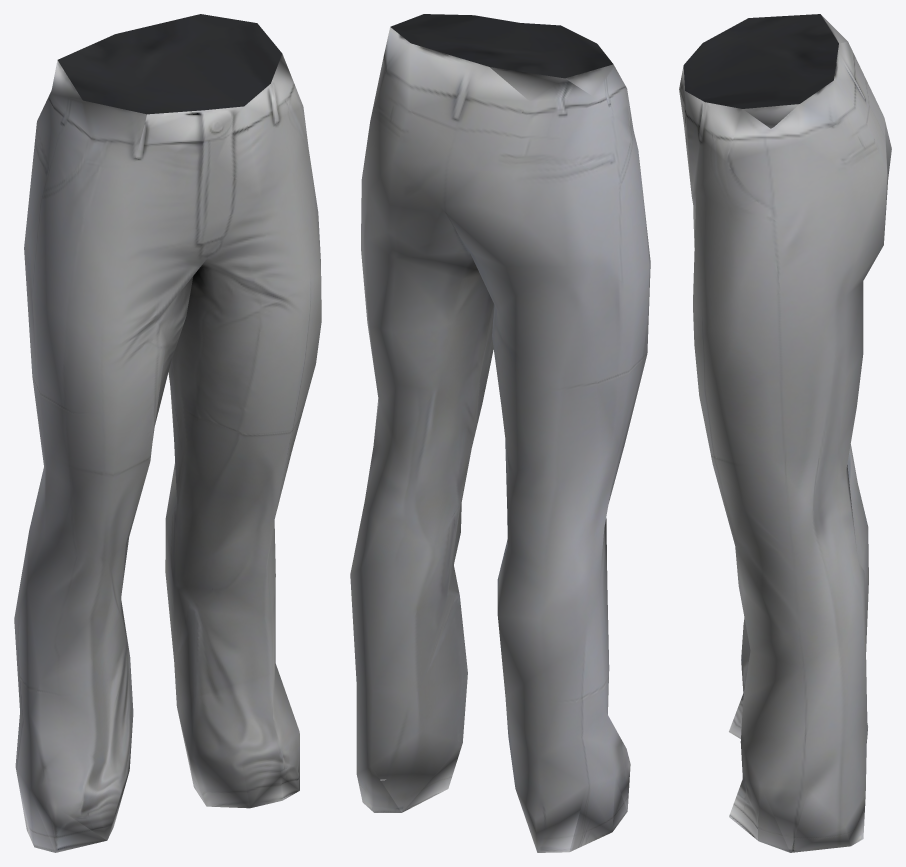
The model's file is Broek.glb.
The picture shows the model from 3 angles, left to right: view 1: azimuth 30°, elevation 25°; view 2: azimuth 150°, elevation 25°; view 3: azimuth 270°, elevation 25°; orthographic projection. The views are drawn at different scales.
Parts seen in each view (by area): view 1: Mesh_0.001; view 2: Mesh_0.001; view 3: Mesh_0.001.
Part boxes in pixels (box(x1,y1,x2,y2)): Mesh_0.001: box(14, 14, 321, 852); Mesh_0.001: box(350, 14, 650, 852); Mesh_0.001: box(679, 14, 891, 852).
Bounding box in the file's own units: 0.7202 × 2 × 0.5157.
1 material, 1 textured.
